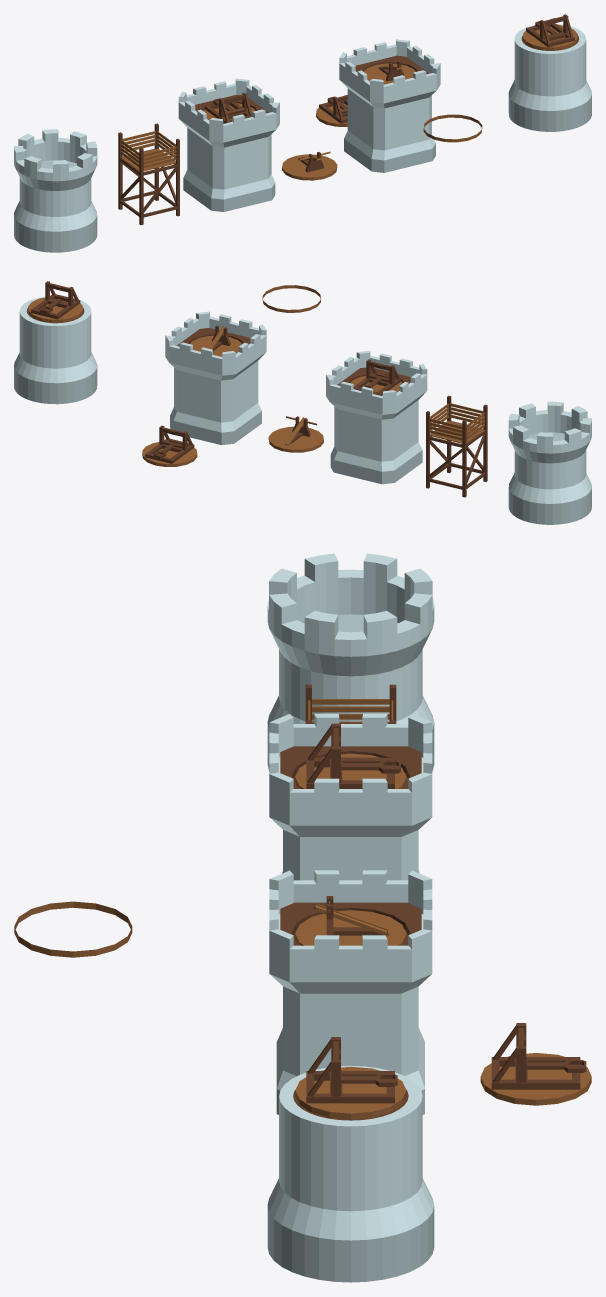
File: ballista_v1.fbx
3 views of the same model, one above another, from view 1: azimuth 30°, elevation 25°; view 2: azimuth 150°, elevation 25°; view 3: azimuth 270°, elevation 25° (orthographic). The views are drawn at different scales.
Parts seen in each view (by area): view 1: Tower_2_Stone.001, Tower_2_Stone, Tower_1.001, Tower_1, catapult-1.001, Tower_3, Ballista_2_Throw, Tower_3.001, catapult-1.002, Catapult_1_Throw, Ballista_2.001, Tower_3.005 (+3 smaller); view 2: Tower_2_Stone.001, Tower_2_Stone, Tower_1.001, Tower_1, catapult-1.001, Catapult_1_Throw, Ballista_2_Throw, Tower_3, Tower_3.001, catapult-1.002, Ballista_2.001, Tower_3.005 (+3 smaller); view 3: Tower_2_Stone.001, Tower_1, Tower_1.001, Tower_2_Stone, Catapult_1_Throw, catapult-1.001, Ballista_2.001, catapult-1.002, outer-ring, Tower_3.005.
Boxes of the visible parts, <box> form: Tower_2_Stone.001: <box>339,39,440,172</box>; Tower_2_Stone: <box>178,78,279,211</box>; Tower_1.001: <box>14,129,97,252</box>; Tower_1: <box>508,24,591,131</box>; catapult-1.001: <box>523,14,577,50</box>; Tower_3: <box>118,123,179,225</box>; Ballista_2_Throw: <box>282,152,337,180</box>; Tower_3.001: <box>122,131,176,168</box>; catapult-1.002: <box>203,92,255,123</box>; Catapult_1_Throw: <box>316,95,347,126</box>; Ballista_2.001: <box>363,61,415,84</box>; Tower_3.005: <box>121,131,175,166</box>; Tower_2_Stone.001: <box>165,311,266,445</box>; Tower_2_Stone: <box>326,350,427,484</box>; Tower_1.001: <box>508,401,591,524</box>; Tower_1: <box>14,296,97,404</box>; catapult-1.001: <box>28,281,82,322</box>; Catapult_1_Throw: <box>142,425,197,466</box>; Ballista_2_Throw: <box>268,416,323,452</box>; Tower_3: <box>426,395,487,497</box>; Tower_3.001: <box>429,403,483,440</box>; catapult-1.002: <box>350,359,402,395</box>; Ballista_2.001: <box>190,325,241,356</box>; Tower_3.005: <box>430,403,484,439</box>; Tower_2_Stone.001: <box>269,870,432,1114</box>; Tower_1: <box>267,1065,434,1282</box>; Tower_1.001: <box>267,553,434,771</box>; Tower_2_Stone: <box>269,713,432,880</box>; Catapult_1_Throw: <box>480,1023,591,1105</box>; catapult-1.001: <box>295,1037,406,1119</box>; Ballista_2.001: <box>295,896,406,945</box>; catapult-1.002: <box>295,723,406,788</box>; outer-ring: <box>14,901,132,957</box>; Tower_3.005: <box>312,699,389,723</box>.
Bounding box in the file's own units: 707 × 118 × 312.
